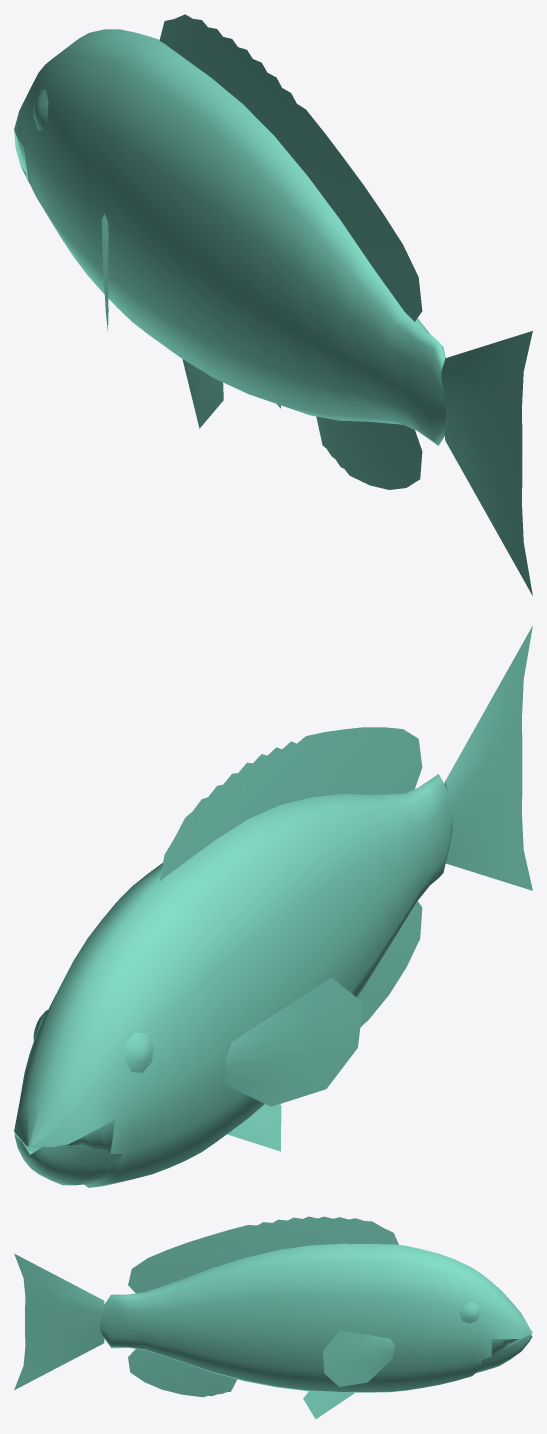
File: parrotfish_lo.glb
3 renders of one model, top to bottom at view 1: azimuth 30°, elevation 25°; view 2: azimuth 150°, elevation 25°; view 3: azimuth 270°, elevation 25°, orthographic. The views are drawn at different scales.
Parts seen in each view (by area): view 1: parrotfish_lo; view 2: parrotfish_lo; view 3: parrotfish_lo.
Part boxes in pixels (x1=…): parrotfish_lo: x1=14, y1=14, x2=532, y2=595; parrotfish_lo: x1=14, y1=625, x2=532, y2=1187; parrotfish_lo: x1=14, y1=1216, x2=532, y2=1418.
Size of the model in its own units: 0.1484 by 0.204 by 0.4976.
